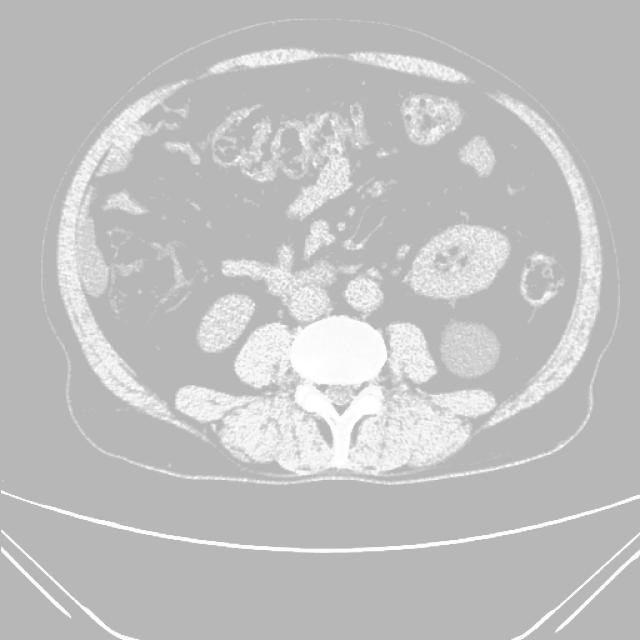cysts: (56, 43, 600, 482)
